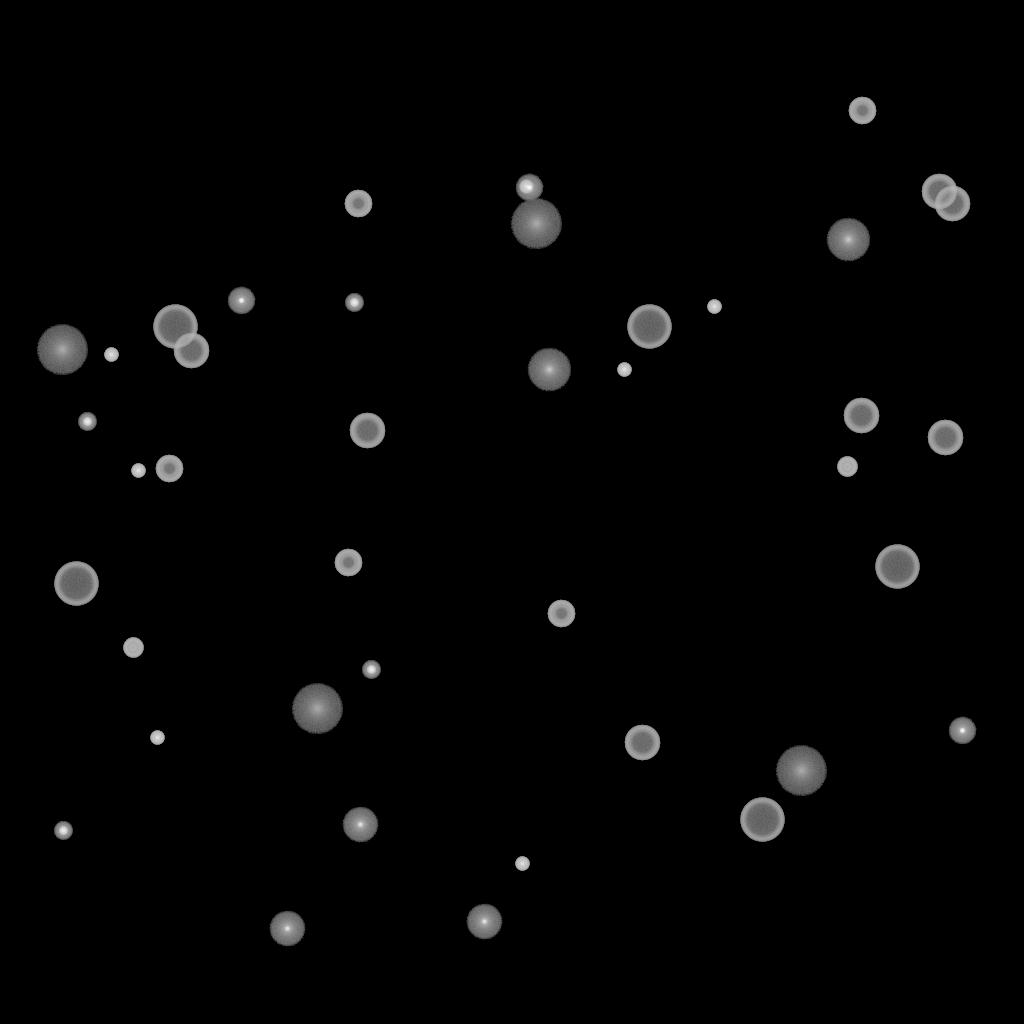depth:-10: (515, 174, 543, 202), (227, 287, 255, 315), (948, 717, 976, 745)
depth:-20: (345, 294, 363, 312), (362, 661, 380, 679), (78, 413, 96, 431), (54, 822, 72, 840)
depth:-30: (617, 363, 631, 377), (519, 180, 533, 194), (707, 300, 721, 314), (515, 857, 529, 871), (150, 731, 164, 745), (104, 348, 118, 362), (131, 464, 145, 478)
depth:-40: (123, 638, 143, 658), (837, 457, 857, 477)
depth:-50: (334, 549, 362, 577), (155, 455, 183, 483), (848, 97, 876, 125), (344, 190, 372, 218), (547, 600, 575, 628)
depth:-60: (921, 174, 957, 210), (173, 333, 209, 369), (624, 725, 660, 761), (843, 398, 879, 434), (934, 186, 970, 222), (927, 420, 963, 456), (349, 413, 385, 449)
depth:-70: (740, 798, 784, 842), (875, 545, 919, 589), (153, 305, 197, 349), (627, 305, 671, 349), (54, 562, 98, 606)
depth:0: (269, 911, 305, 947), (342, 807, 378, 843), (466, 904, 502, 940)
depth:10: (826, 218, 870, 262), (527, 348, 571, 392)
depth:20: (510, 199, 562, 249), (291, 684, 343, 734), (36, 325, 88, 375), (775, 746, 827, 796)
